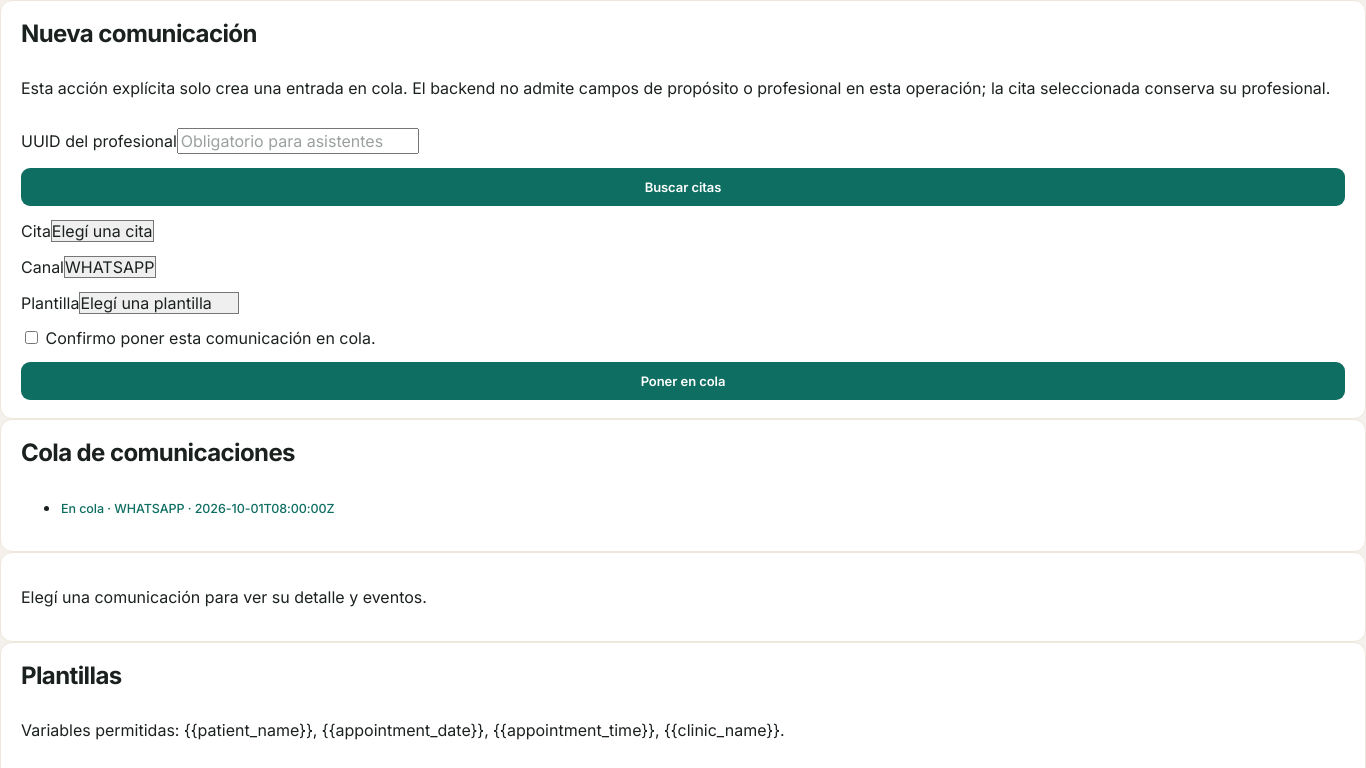
Test case: CommunicationsPanel › requires an assistant-selected provider and queues only after explicit confirmation with refreshed authority
The width and height of the screenshot is (1366, 768).
Type "11111111-1111-4111-8111-111111111111" into the field labelled "UUID del profesional" at (298, 141), box [177,128,419,154]
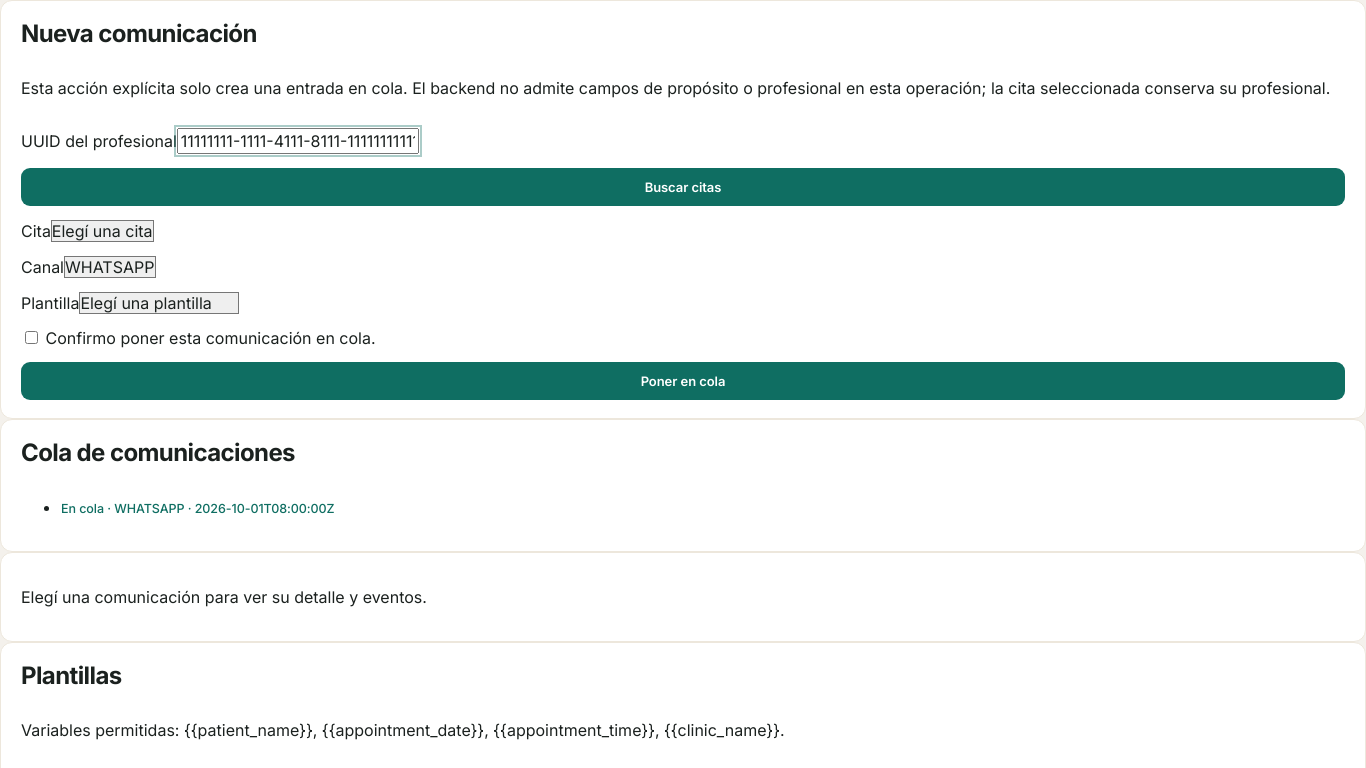
Click the button "Buscar citas" at (683, 187), box [21,168,1345,206]
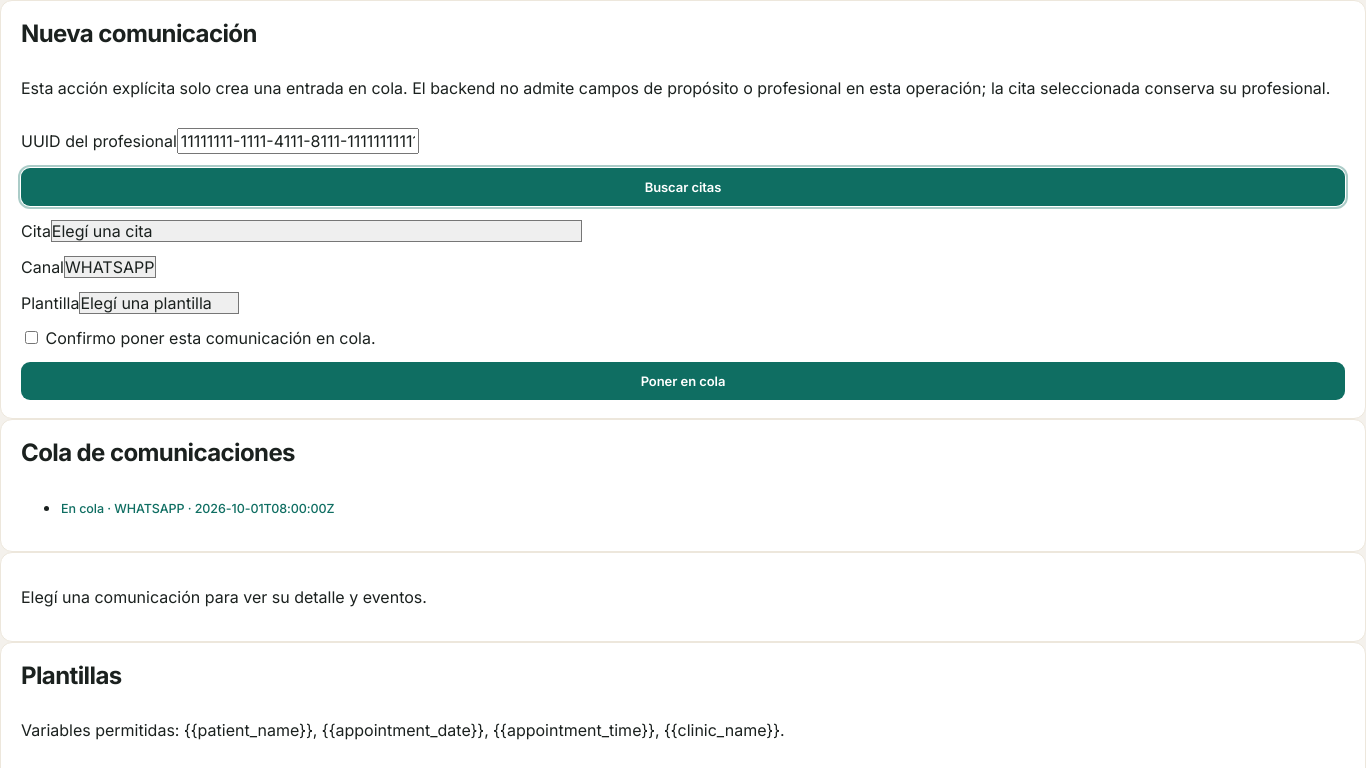
Select "2026-10-01T10:00:00Z · 22222222-2222-4222-8222-222222222222" in the dropdown labelled "Cita" at (316, 231), box [51,220,582,242]
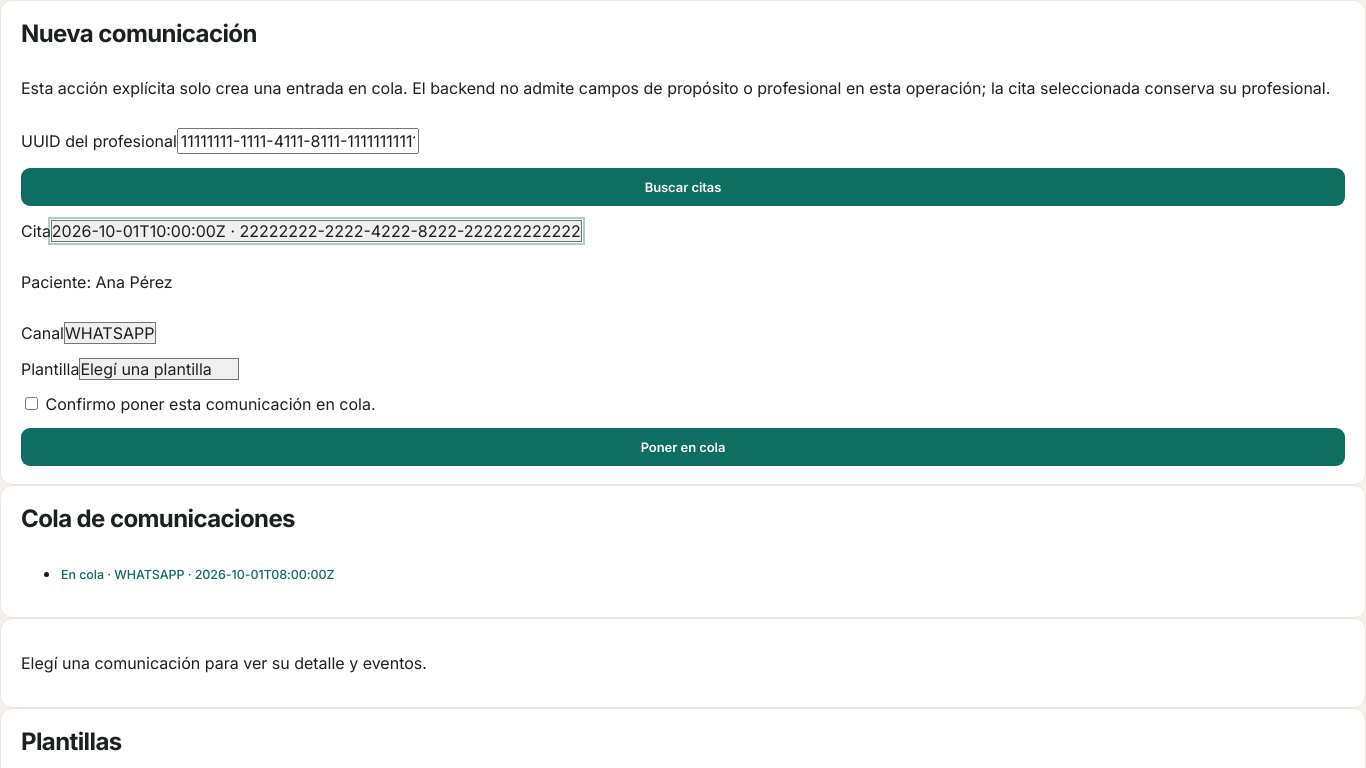
Result: the text "Paciente: Ana Pérez" is shown at [21,272,173,292]
Select "CONFIRM · versión 5" in the dropdown labelled "Plantilla" at (159, 369), box [79,358,239,380]
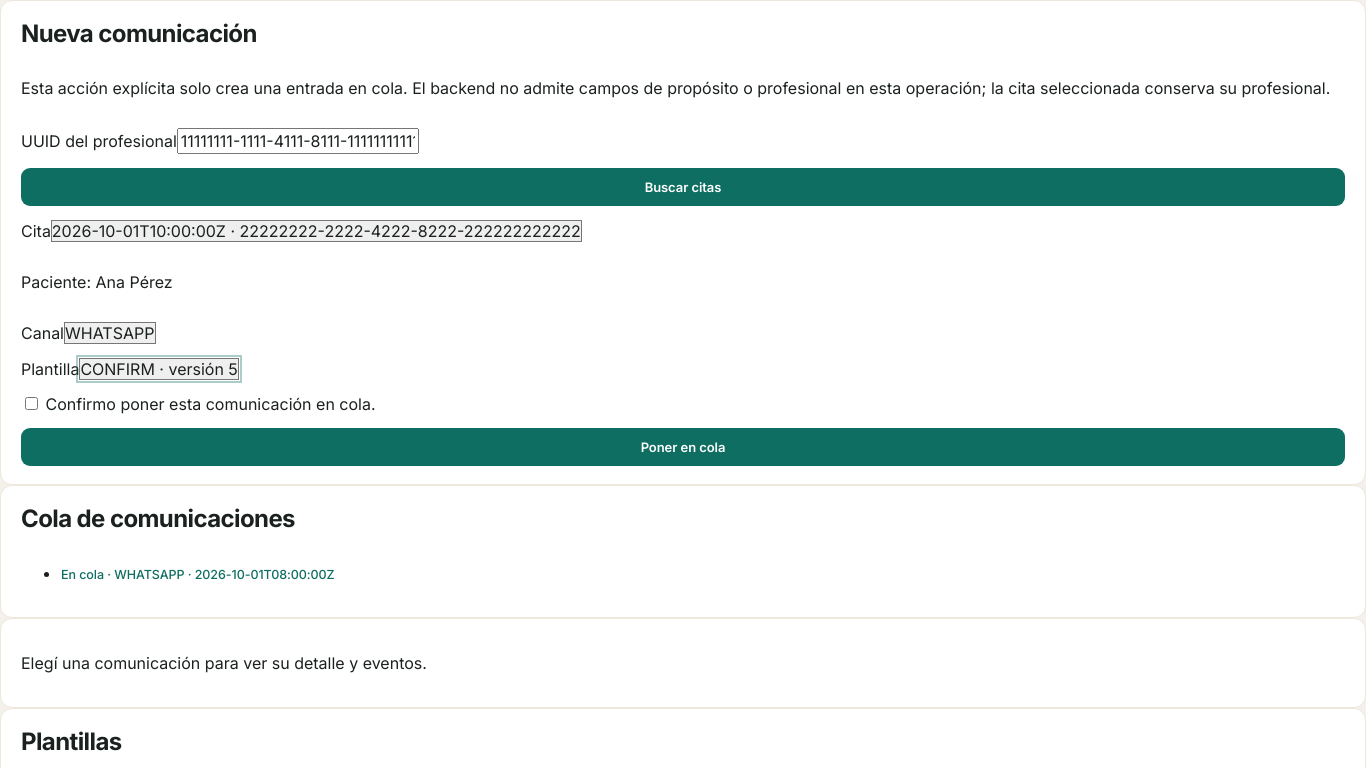
Click the checkbox labelled "Confirmo poner esta comunicación en cola." at (32, 404), box [25,397,38,410]
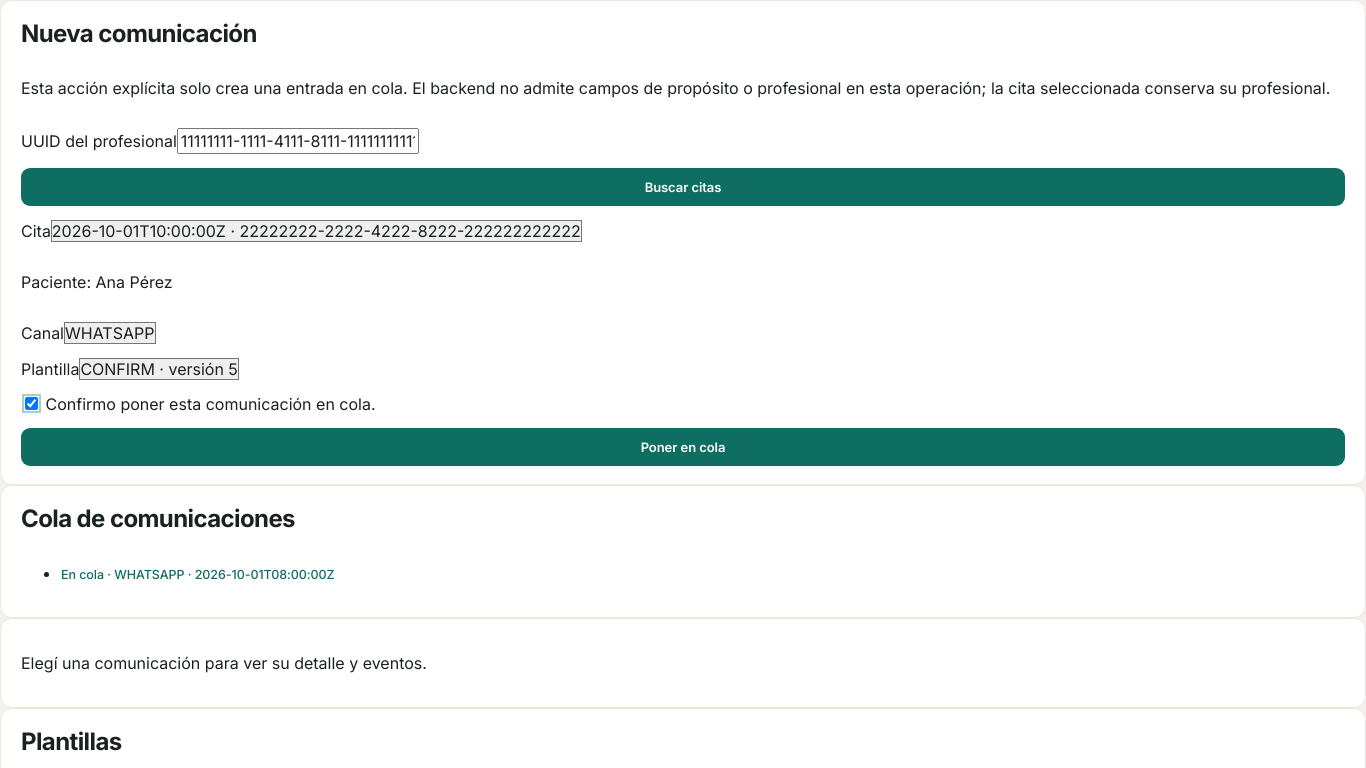
Click the button "Poner en cola" at (683, 447), box [21,428,1345,466]
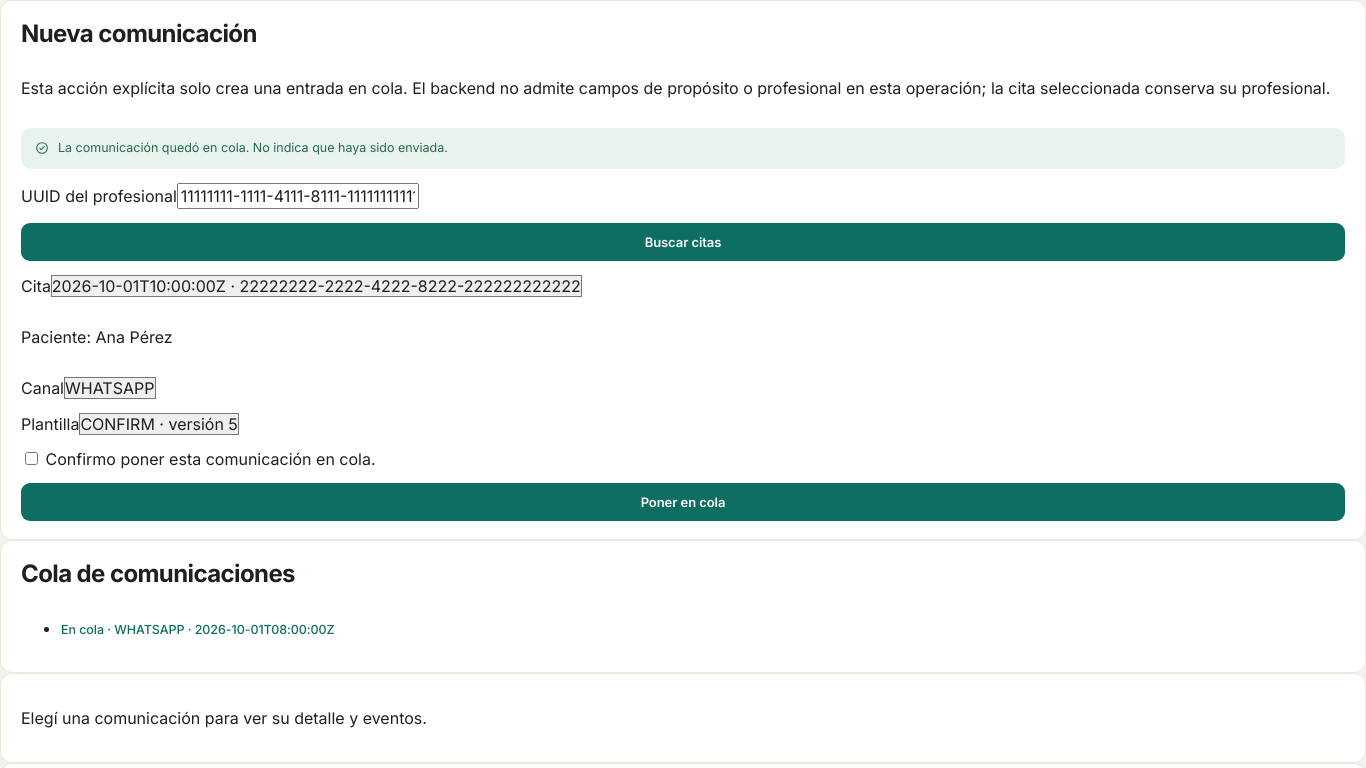
Result: the text "La comunicación quedó en cola. No indica que haya sido enviada." is shown at [58,139,448,158]
